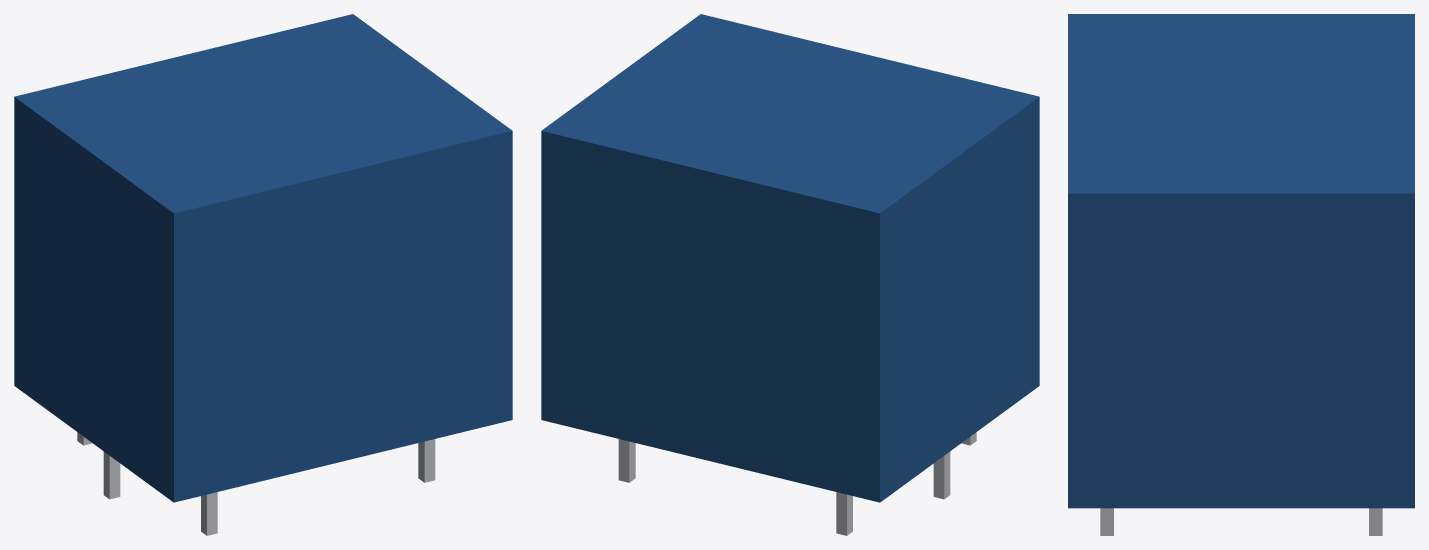
The model's file is relay-srd-05vdc-sl-c.glb.
The picture shows the model from 3 angles, left to right: view 1: azimuth 30°, elevation 25°; view 2: azimuth 150°, elevation 25°; view 3: azimuth 270°, elevation 25°; orthographic projection. The views are drawn at different scales.
Parts seen in each view (by area): view 1: object 1, pin-1, pin-4, pin-5; view 2: object 1, pin-1, pin-3, pin-2; view 3: object 1.
Part boxes in pixels (x1,y1,x2,y2): object 1: [14, 14, 512, 502]; pin-1: [103, 451, 120, 499]; pin-4: [418, 439, 435, 482]; pin-5: [201, 492, 217, 535]; object 1: [541, 14, 1039, 502]; pin-1: [933, 451, 950, 499]; pin-3: [618, 439, 635, 482]; pin-2: [836, 492, 852, 535]; object 1: [1068, 14, 1414, 508].
Bounding box in the file's own units: 0.019 × 0.0185 × 0.0155.
